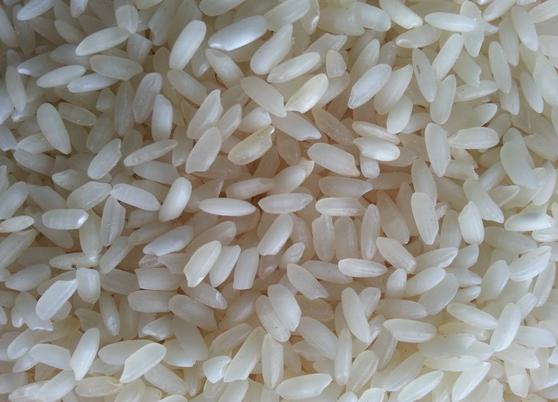rice: (48, 35, 502, 356)
